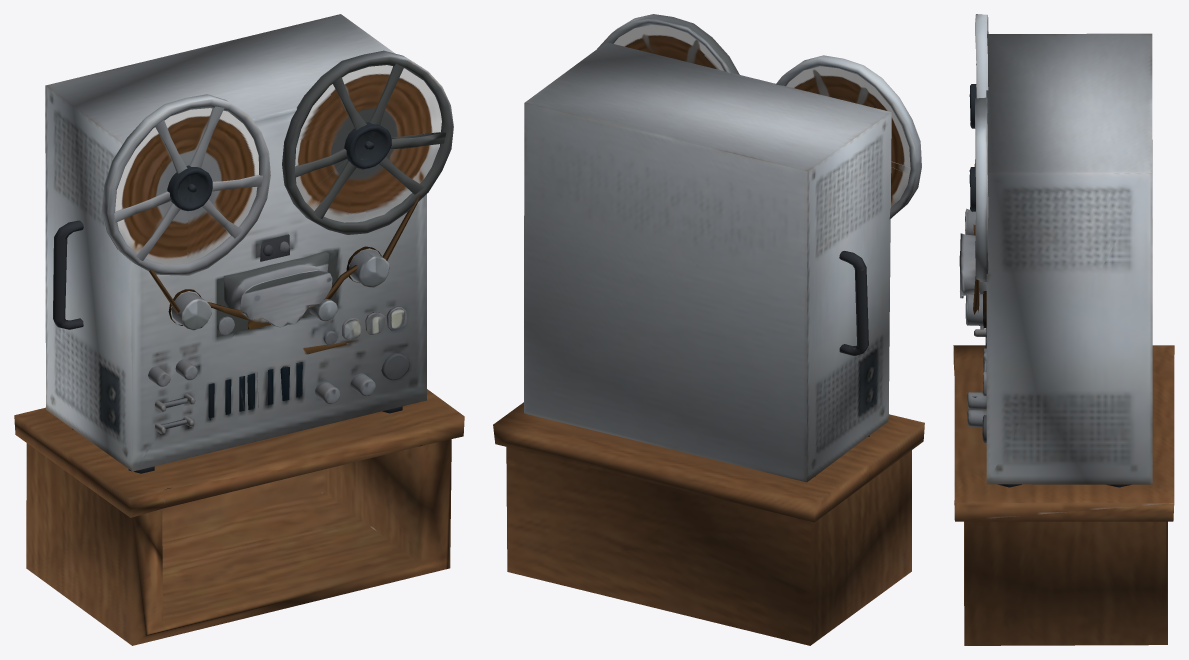
The model's file is radio_rolo.glb.
3 views of the same model, side by side, from view 1: azimuth 30°, elevation 25°; view 2: azimuth 150°, elevation 25°; view 3: azimuth 270°, elevation 25° (orthographic). The views are drawn at different scales.
Visible parts, largest first — view 1: geometry_0; view 2: geometry_0; view 3: geometry_0.
Boxes of the visible parts, bbox=[...] form: geometry_0: bbox=[14, 14, 464, 645]; geometry_0: bbox=[493, 14, 924, 645]; geometry_0: bbox=[953, 14, 1174, 645].
Size of the model in its own units: 0.6917 by 1 by 0.3977.
1 material, 1 textured.
